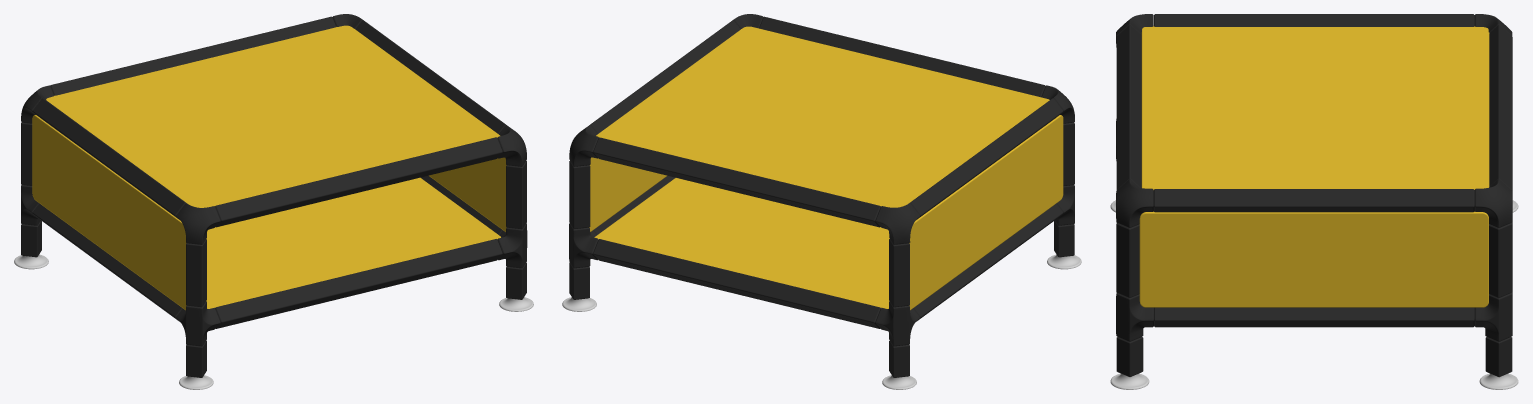
3 renders of one model, left to right at view 1: azimuth 30°, elevation 25°; view 2: azimuth 150°, elevation 25°; view 3: azimuth 270°, elevation 25°, orthographic. The views are drawn at different scales.
Visible parts, largest first — view 1: 374x329x79; view 2: 374x329x79; view 3: 374x329x79.
Boxes of the visible parts, x1,y1,x2,y2 form: 374x329x79: (14,14,533,389); 374x329x79: (562,14,1081,389); 374x329x79: (1110,14,1518,389).
Size of the model in its own units: 0.4639 by 0.2183 by 0.4182.
